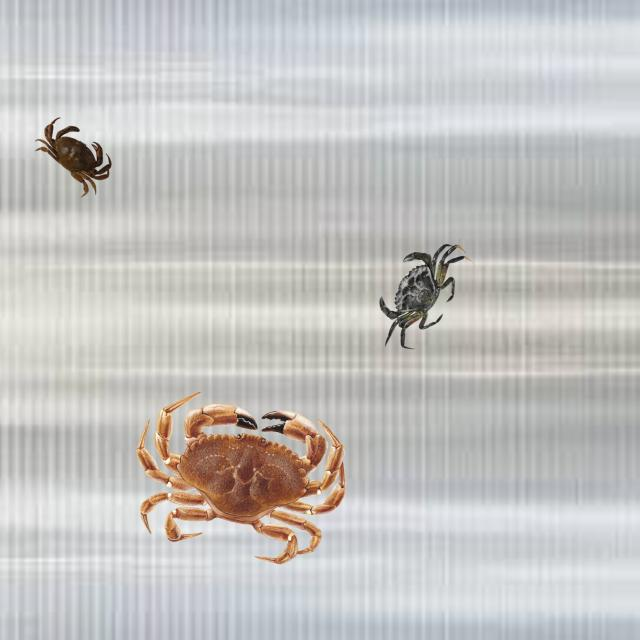European_Green_Crab: (361, 225, 479, 357)
